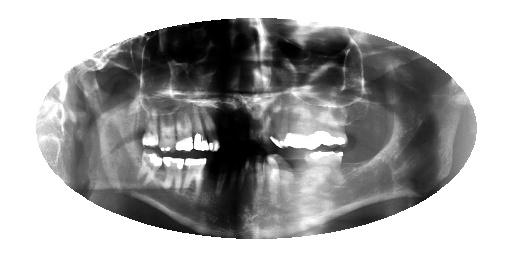Fillings: (182, 157, 206, 197), (137, 151, 163, 184), (192, 105, 210, 152), (164, 156, 186, 194), (176, 113, 193, 151)
